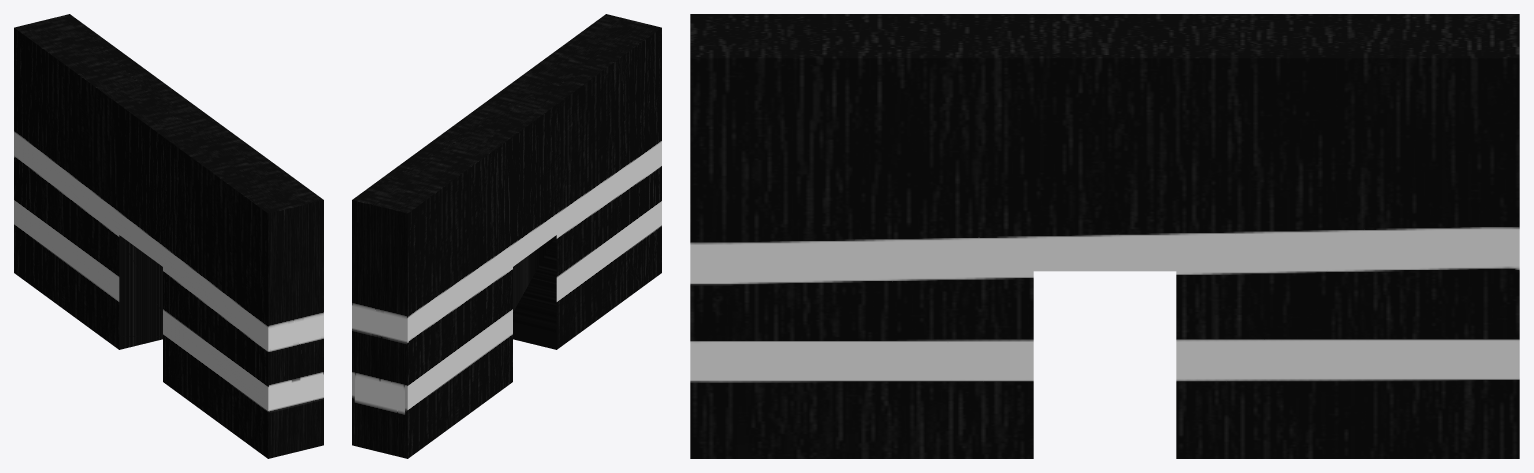
File: wall2.fbx
The picture shows the model from 3 angles, left to right: view 1: azimuth 30°, elevation 25°; view 2: azimuth 150°, elevation 25°; view 3: azimuth 270°, elevation 25°; orthographic projection. The views are drawn at different scales.
Visible parts, largest first — view 1: wall; view 2: wall; view 3: wall.
Boxes of the visible parts, x1,y1,x2,y2 form: wall: (14,14,323,458); wall: (352,14,661,458); wall: (690,14,1519,458).
Size of the model in its own units: 42.29 by 178 by 334.
1 material, 1 textured.
